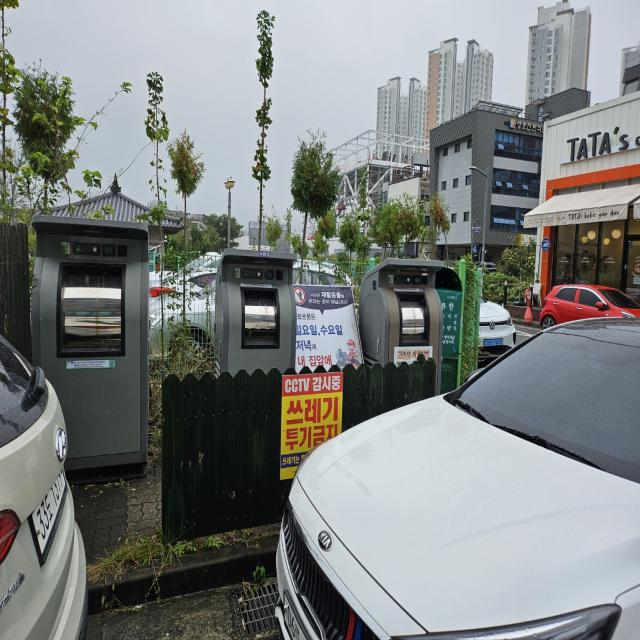CleanNet: (30, 214, 148, 472), (359, 259, 444, 393), (214, 251, 296, 376)
